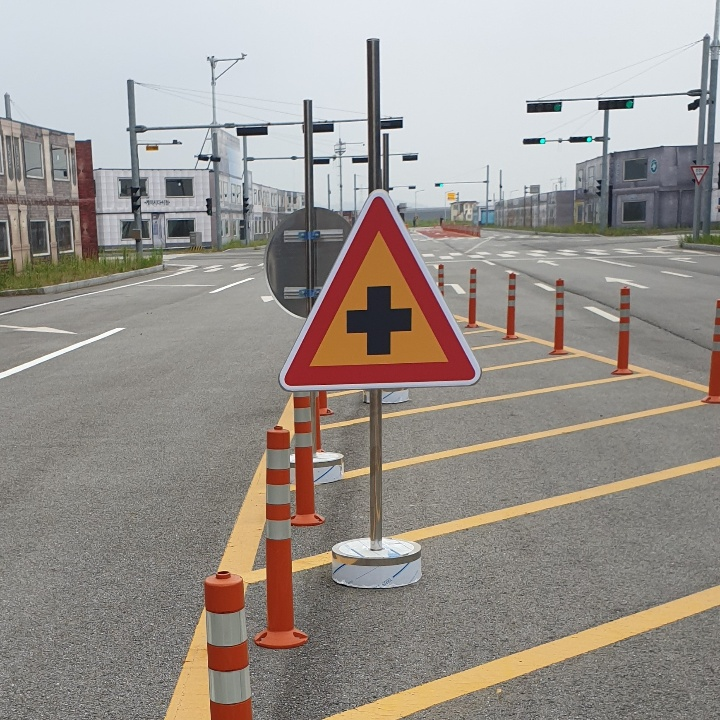inter: (340, 280, 419, 359)
